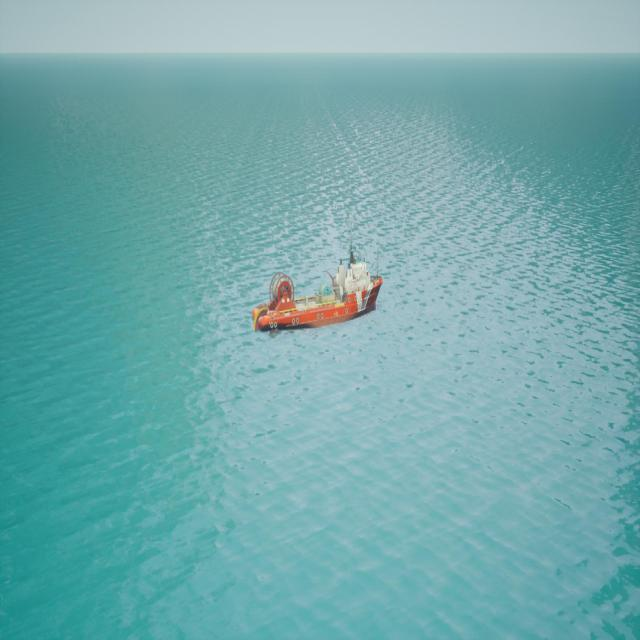tug boat: (254, 238, 385, 338)
